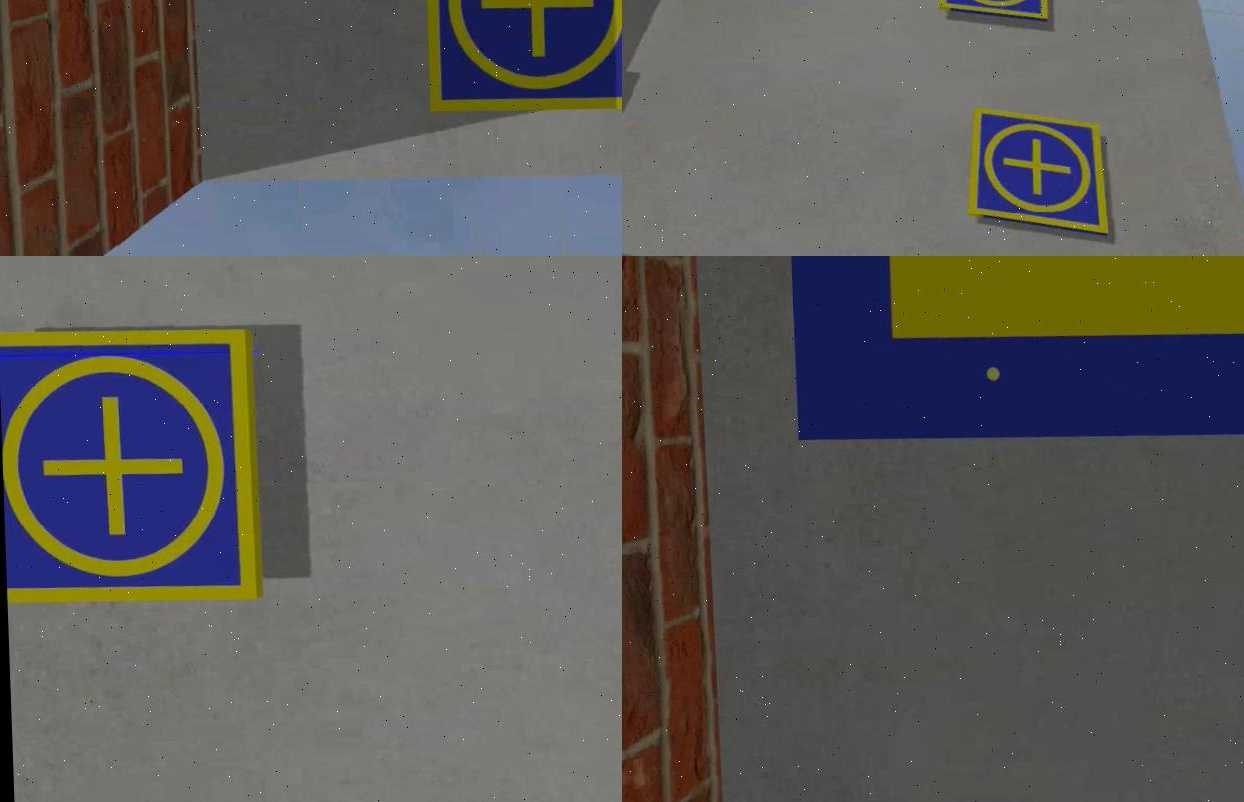large_base: (776, 256, 1242, 456)
small_base: (0, 326, 261, 604), (419, 1, 620, 116), (966, 108, 1110, 241), (937, 1, 1055, 27)
